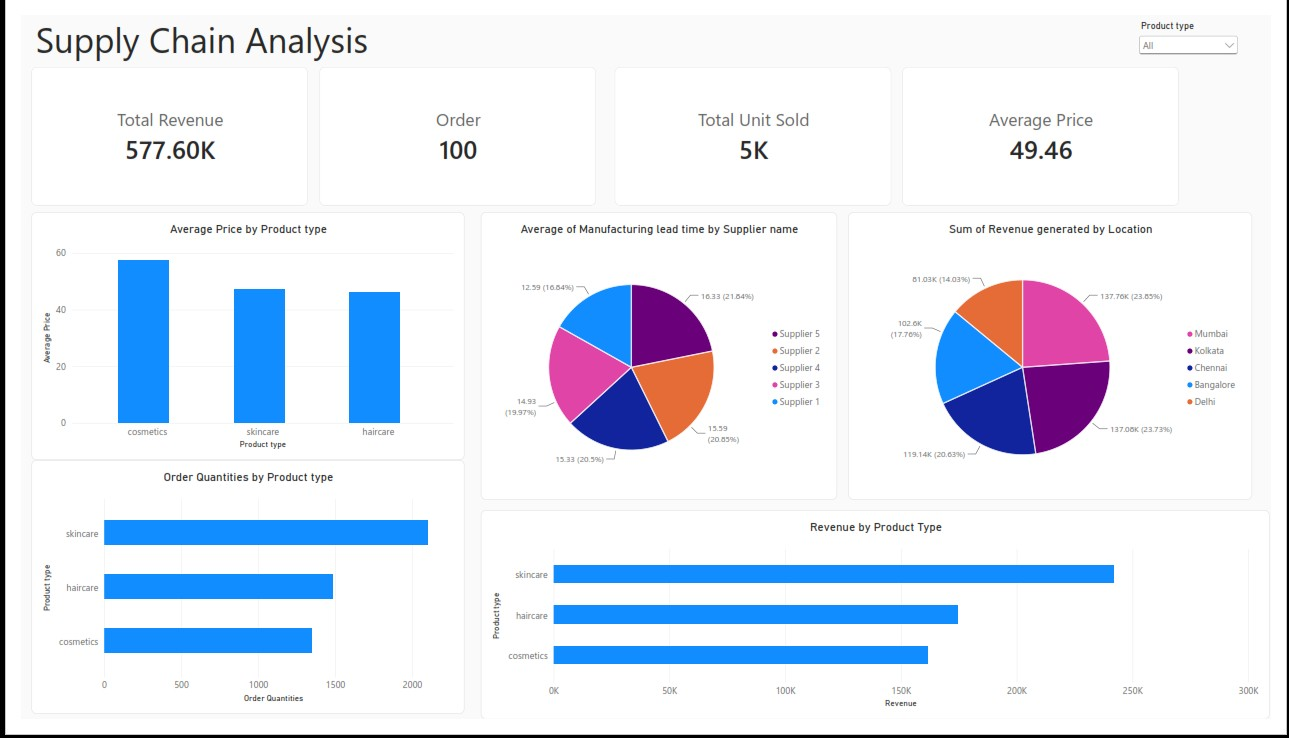

What the dashboard file says about the page in this screenshot:
{"tool":"powerbi","page":{"name":"Page 1","canvas":[1920,1080],"ordinal":0},"visuals":[{"type":"cardVisual","fields":{"Data":["Sum(supply_chain_data.Revenue generated)"]},"box":[15.4,78.8,425,213.5],"z":0},{"type":"cardVisual","fields":{"Data":["supply_chain_data.Order"]},"box":[457.7,78.8,425,213.5],"z":1000},{"type":"cardVisual","fields":{"Data":["Avg(supply_chain_data.Price)"]},"box":[1353.8,78.8,425,213.5],"z":2000},{"type":"cardVisual","fields":{"Data":["Sum(supply_chain_data.Order quantities)"]},"box":[911.5,78.8,425,213.5],"z":2001},{"type":"barChart","title":"Revenue by Product Type","fields":{"Category":["supply_chain_data.Product type"],"Y":["Sum(supply_chain_data.Revenue generated)"]},"box":[705.8,759.6,1213.5,321.2],"z":2002},{"type":"barChart","fields":{"Category":["supply_chain_data.Product type"],"Y":["Sum(supply_chain_data.Order quantities)"]},"box":[15.4,682.7,665.4,390.4],"z":2003},{"type":"columnChart","fields":{"Category":["supply_chain_data.Product type"],"Y":["Avg(supply_chain_data.Price)"]},"box":[15.4,301.9,665.4,380.8],"z":2004},{"type":"pieChart","fields":{"Category":["supply_chain_data.Location"],"Y":["Sum(supply_chain_data.Revenue generated)"]},"box":[1271.2,301.9,621.2,442.3],"z":2005},{"type":"pieChart","fields":{"Category":["supply_chain_data.Supplier name"],"Y":["Avg(supply_chain_data.Manufacturing lead time)"]},"box":[705.8,301.9,548.1,442.3],"z":2006},{"type":"textbox","box":[0,0,553.8,96.2],"z":2007},{"type":"slicer","fields":{"Values":["supply_chain_data.Product type"]},"box":[1713.5,7.7,161.5,71.2],"z":2008}]}

Visuals, with their boxes in screenshot pixels (x1, y1, x2, y2), scaled from the page's 1920x1080 canvas onto the 1289x738 screenshot:
cardVisual - Sum(supply_chain_data.Revenue generated): (10, 54, 296, 200)
cardVisual - supply_chain_data.Order: (307, 54, 593, 200)
cardVisual - Avg(supply_chain_data.Price): (909, 54, 1194, 200)
cardVisual - Sum(supply_chain_data.Order quantities): (612, 54, 897, 200)
"Revenue by Product Type" barChart: (474, 519, 1288, 737)
barChart - supply_chain_data.Product type x Sum(supply_chain_data.Order quantities): (10, 467, 457, 733)
columnChart - supply_chain_data.Product type x Avg(supply_chain_data.Price): (10, 206, 457, 467)
pieChart - supply_chain_data.Location x Sum(supply_chain_data.Revenue generated): (853, 206, 1270, 509)
pieChart - supply_chain_data.Supplier name x Avg(supply_chain_data.Manufacturing lead time): (474, 206, 842, 509)
textbox: (0, 0, 372, 66)
slicer - supply_chain_data.Product type: (1150, 5, 1259, 54)
